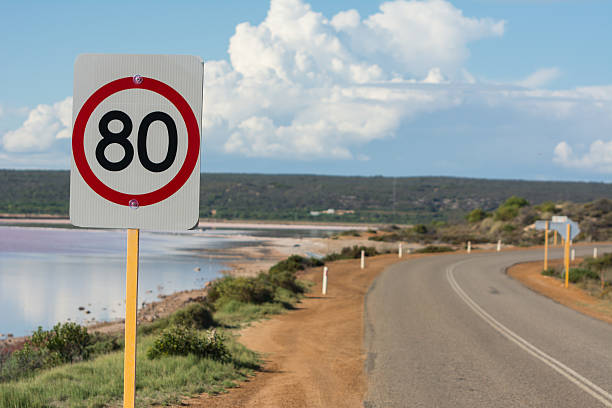Speed_limit_80km: (71, 76, 201, 207)
